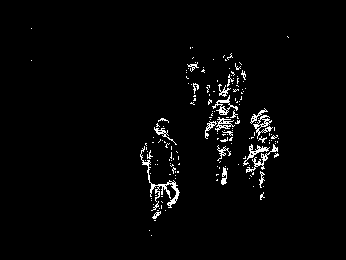person: (138, 115, 182, 224), (241, 106, 281, 205), (201, 90, 241, 185), (225, 60, 246, 123), (184, 54, 207, 106)
